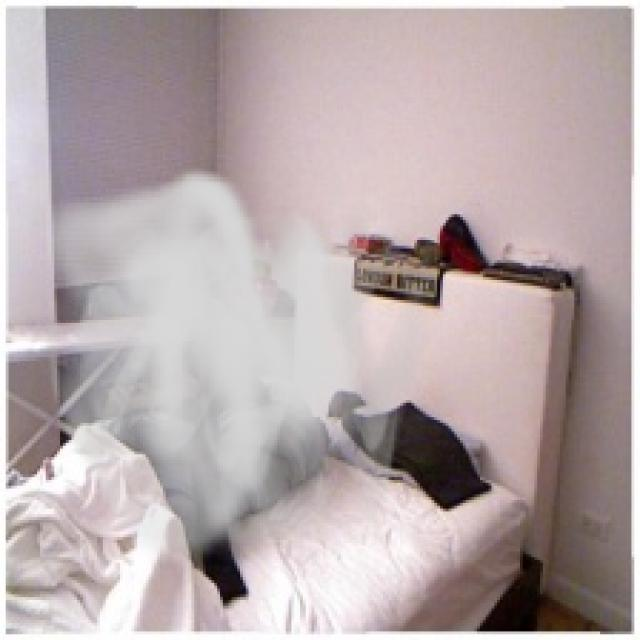smoke: (31, 166, 443, 577)
